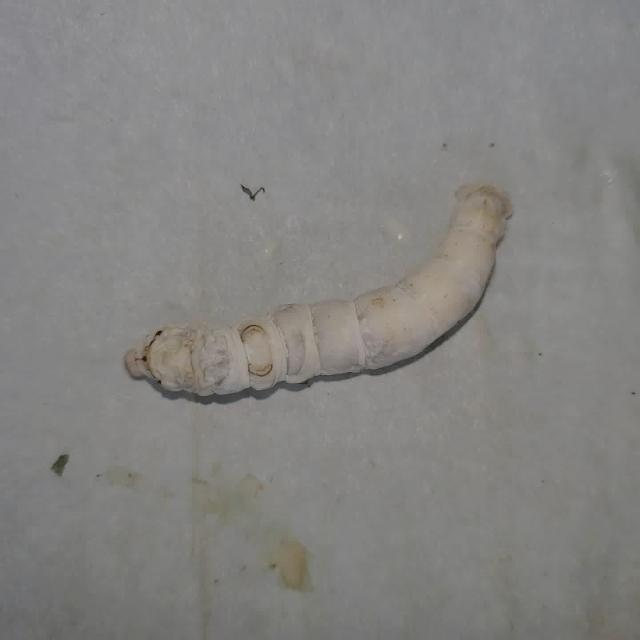Grasserie: (103, 146, 566, 448)
